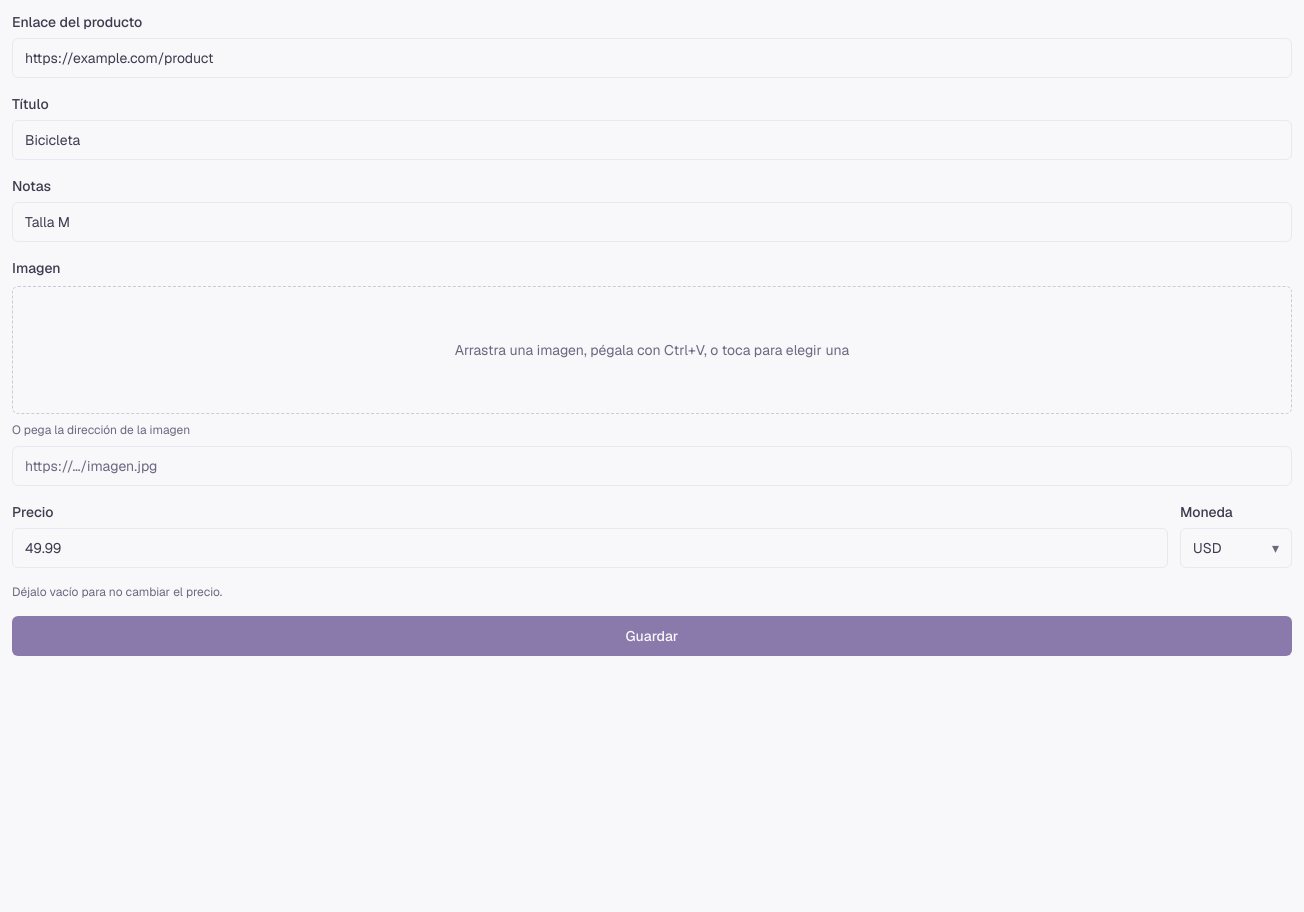
Test: EditItemForm › shows a form-level error and does not close on a server failure
This screenshot has width=1304, height=912.
Click the button "Guardar".
click(652, 636)  # box [12, 616, 1292, 656]
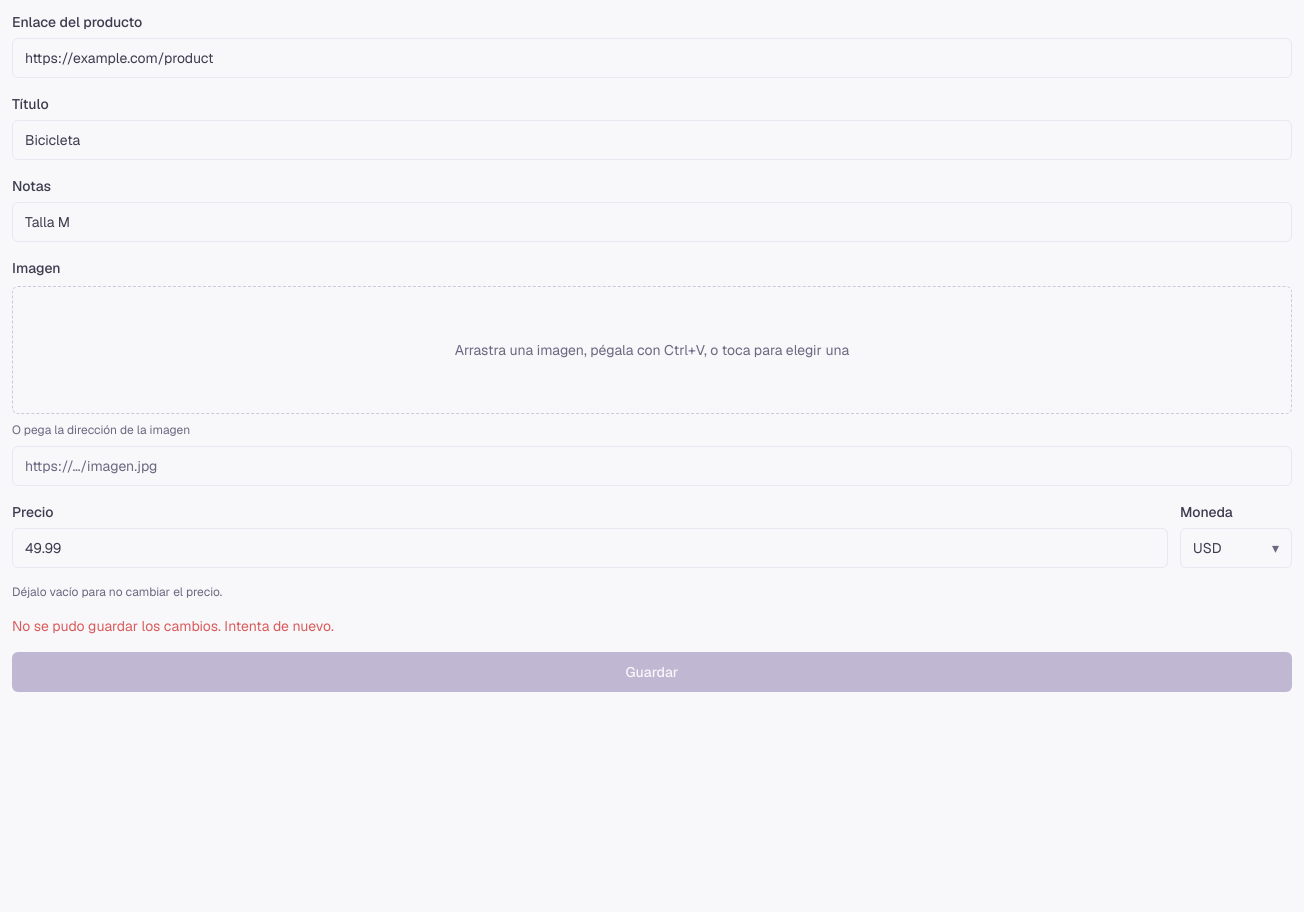
Expected: the message reads "No se pudo guardar los cambios. Intenta de nuevo.", [12, 617, 334, 635]
